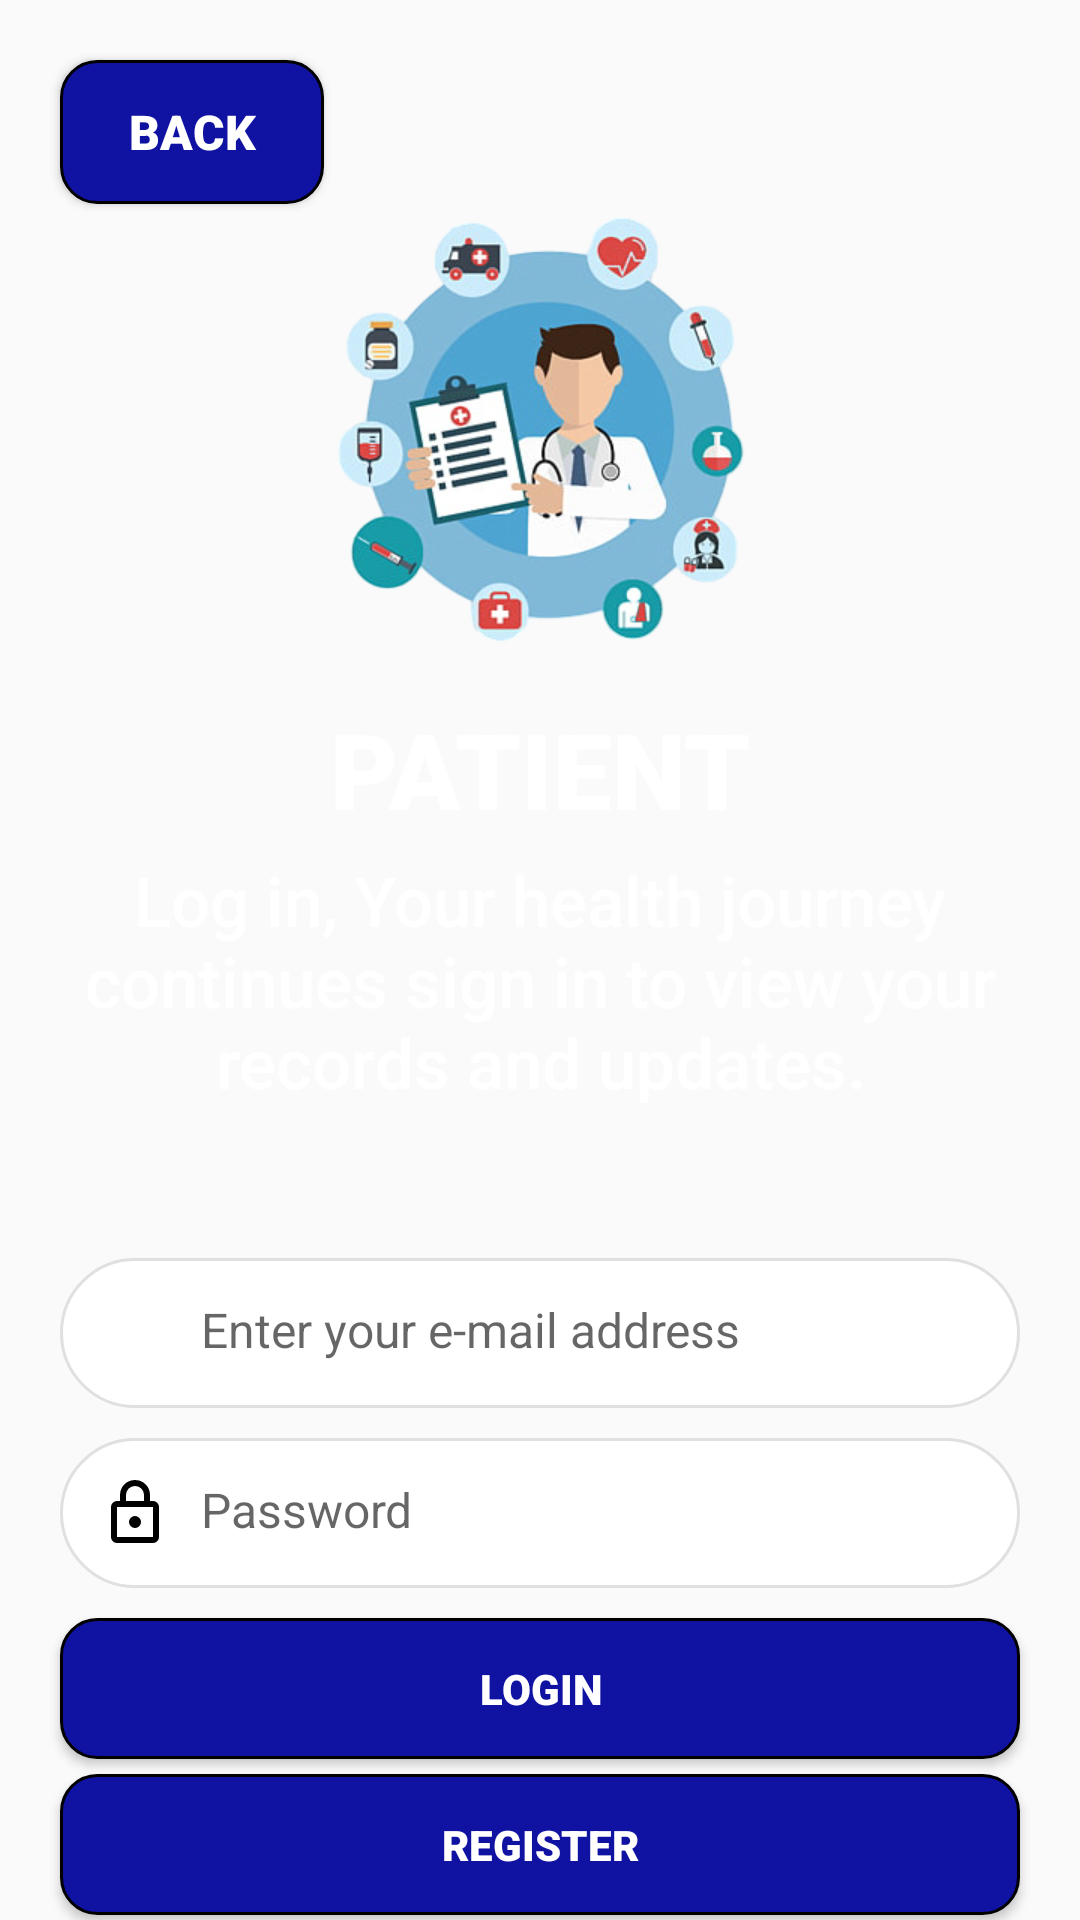

Where to tap for icons on this 1080 × 1920 app screen, as (x=x, y=y):
lock: (x=135, y=1511)
